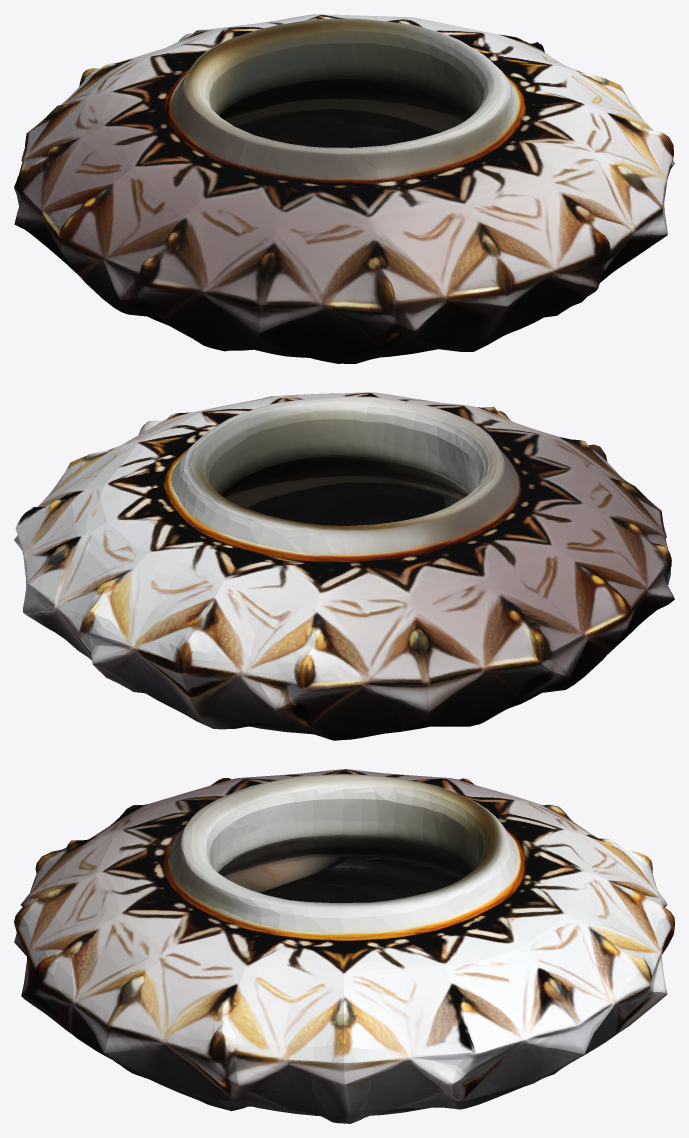
The model's file is porcelain-match-striker-futuristic.jpeg.glb.
3 views of the same model, one above another, from view 1: azimuth 30°, elevation 25°; view 2: azimuth 150°, elevation 25°; view 3: azimuth 270°, elevation 25° (orthographic).
Parts seen in each view (by area): view 1: world; view 2: world; view 3: world.
Boxes of the visible parts, x1=… form: world: x1=14, y1=14, x2=674, y2=363; world: x1=14, y1=392, x2=674, y2=740; world: x1=14, y1=769, x2=674, y2=1123.
Size of the model in its own units: 0.9987 by 0.3283 by 1.
Materials: 1 (1 with a texture image).
